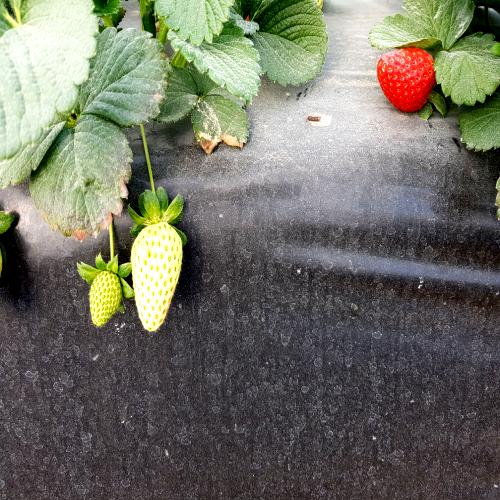unripe: (128, 219, 191, 346)
